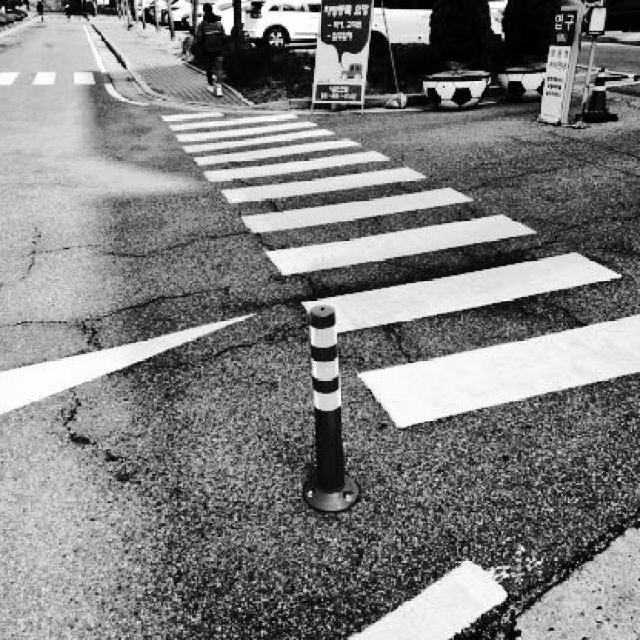crosswalk: (158, 111, 640, 434)
